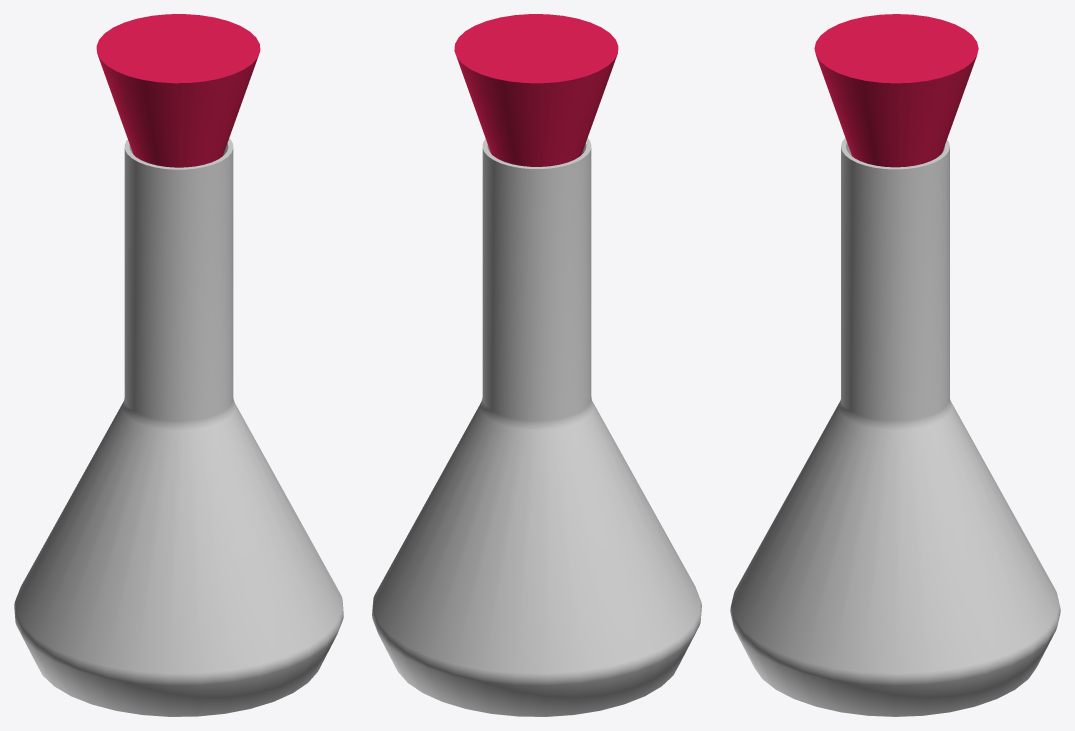
Rendered from Fiole.fbx.
3 renders of one model, left to right at view 1: azimuth 30°, elevation 25°; view 2: azimuth 150°, elevation 25°; view 3: azimuth 270°, elevation 25°, orthographic.
Visible parts, largest first — view 1: Fiole, Bouchon; view 2: Fiole, Bouchon; view 3: Fiole, Bouchon.
Part boxes in pixels (x1,y1,x2,y2): Fiole: [14, 138, 343, 716]; Bouchon: [96, 14, 260, 167]; Fiole: [372, 138, 701, 716]; Bouchon: [454, 14, 618, 166]; Fiole: [730, 137, 1060, 716]; Bouchon: [814, 14, 978, 167].
Bounding box in the file's own units: 288 × 588 × 288.
